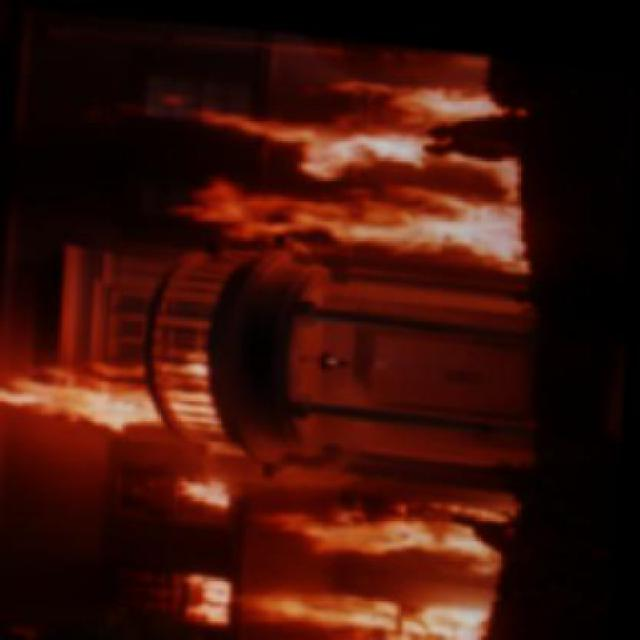fire: (96, 69, 525, 272)
